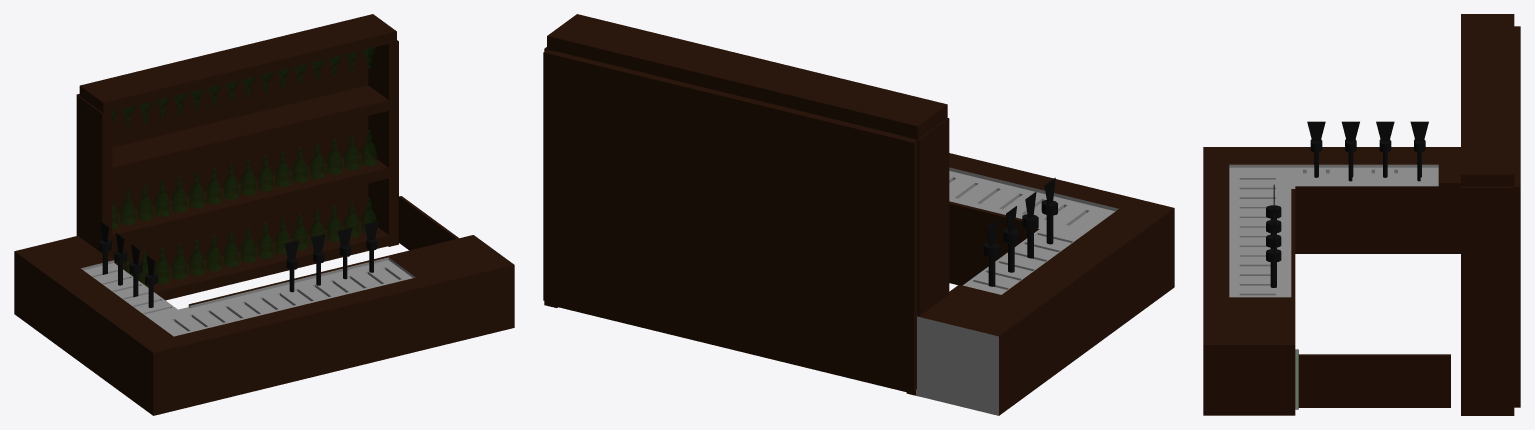
Rendered from BAR.FBX.
The picture shows the model from 3 angles, left to right: view 1: azimuth 30°, elevation 25°; view 2: azimuth 150°, elevation 25°; view 3: azimuth 270°, elevation 25°; orthographic projection. The views are drawn at different scales.
Parts seen in each view (by area): view 1: Box001, Box002, Box009, Box005, Box004, Box003, Box007, Box006, Box008, Cylinder006; view 2: Box002, Box001, Box009, Box006, Box003, Cylinder008, Cylinder010, Cylinder007, Cylinder009; view 3: Box001, Box007, Box009, Box008, Box002, Cylinder009, Cylinder008, Cylinder010, Cylinder007, Cylinder003.
Boxes of the visible parts, left/top/right/bottom form: Box001: left=14, top=235, right=514, bottom=415; Box002: left=76, top=49, right=368, bottom=275; Box009: left=79, top=14, right=396, bottom=113; Box005: left=104, top=85, right=396, bottom=179; Box004: left=107, top=153, right=396, bottom=245; Box003: left=138, top=220, right=396, bottom=300; Box007: left=368, top=40, right=398, bottom=246; Box006: left=78, top=96, right=112, bottom=258; Box008: left=398, top=196, right=458, bottom=250; Cylinder006: left=284, top=240, right=298, bottom=292; Box002: left=543, top=50, right=917, bottom=390; Box001: left=916, top=153, right=1174, bottom=415; Box009: left=547, top=14, right=947, bottom=139; Box006: left=906, top=118, right=949, bottom=395; Box003: left=547, top=302, right=915, bottom=394; Cylinder008: left=983, top=220, right=999, bottom=286; Cylinder010: left=1041, top=177, right=1057, bottom=244; Cylinder007: left=1003, top=206, right=1019, bottom=272; Cylinder009: left=1022, top=192, right=1038, bottom=258; Box001: left=1203, top=147, right=1460, bottom=415; Box007: left=1461, top=186, right=1514, bottom=415; Box009: left=1461, top=14, right=1514, bottom=186; Box008: left=1299, top=354, right=1450, bottom=407; Box002: left=1514, top=26, right=1520, bottom=407; Cylinder009: left=1341, top=121, right=1359, bottom=181; Cylinder008: left=1410, top=121, right=1428, bottom=181; Cylinder010: left=1307, top=121, right=1325, bottom=177; Cylinder007: left=1376, top=121, right=1394, bottom=177; Cylinder003: left=1266, top=228, right=1281, bottom=287.
Size of the model in its own units: 6015 by 3393 by 4069.
